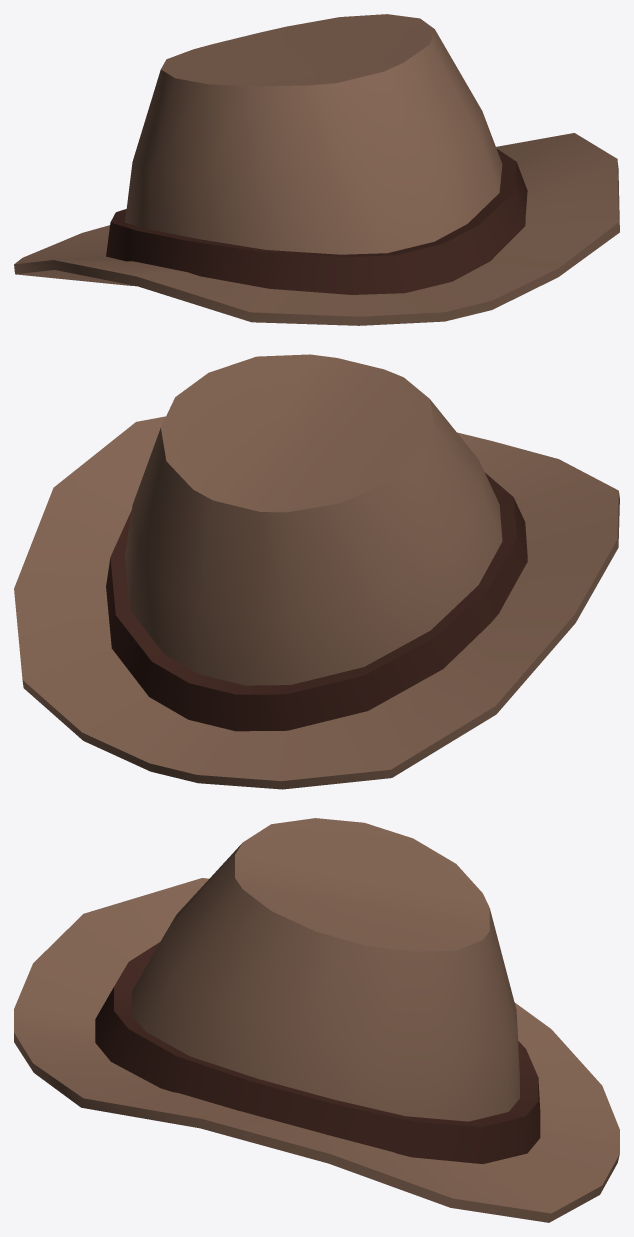
The model's file is Hat.fbx.
The picture shows the model from 3 angles, top to bottom: view 1: azimuth 30°, elevation 25°; view 2: azimuth 150°, elevation 25°; view 3: azimuth 270°, elevation 25°; orthographic projection. The views are drawn at different scales.
Parts seen in each view (by area): view 1: Cylinder.001; view 2: Cylinder.001; view 3: Cylinder.001.
Boxes of the visible parts, <box> form: Cylinder.001: <box>14,14,619,325</box>; Cylinder.001: <box>14,354,619,789</box>; Cylinder.001: <box>14,818,619,1222</box>.
Size of the model in its own units: 322 by 164 by 316.
